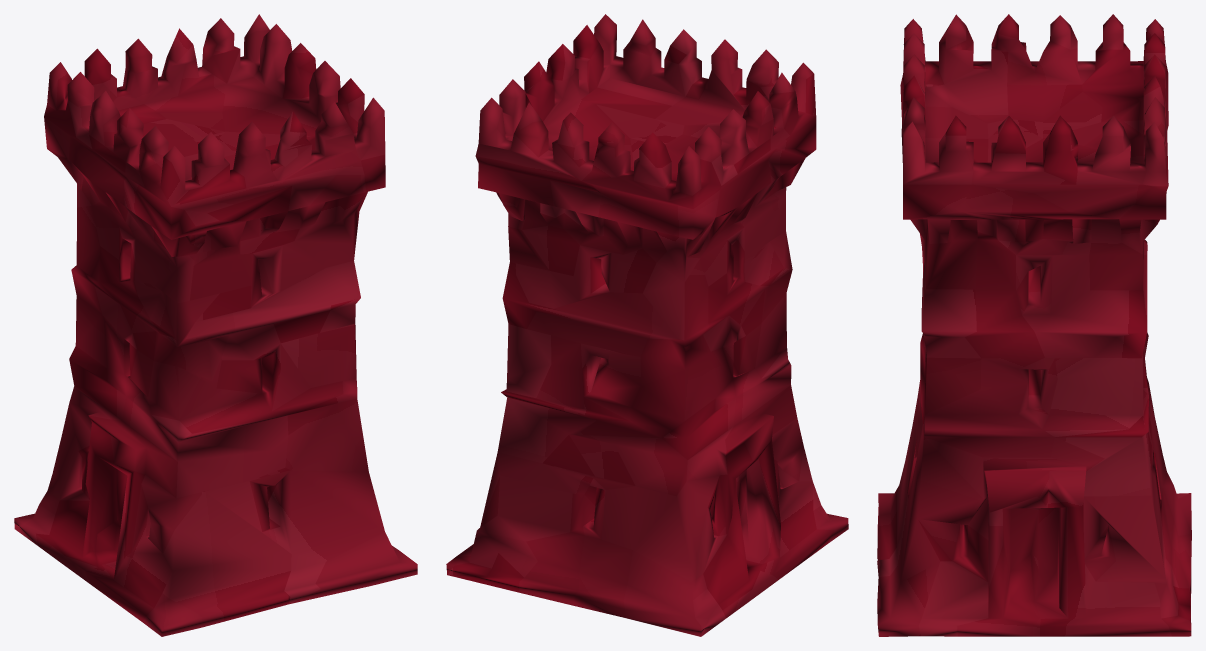
The model's file is castle_tower_medium_diamond_red_lo.glb.
3 views of the same model, side by side, from view 1: azimuth 30°, elevation 25°; view 2: azimuth 150°, elevation 25°; view 3: azimuth 270°, elevation 25° (orthographic). The views are drawn at different scales.
Parts seen in each view (by area): view 1: tripo_node_f74a6873-0aa4-44c0-b1a2-0f1e77261948; view 2: tripo_node_f74a6873-0aa4-44c0-b1a2-0f1e77261948; view 3: tripo_node_f74a6873-0aa4-44c0-b1a2-0f1e77261948.
Boxes of the visible parts, box(x1,y1,x2,y2) form: tripo_node_f74a6873-0aa4-44c0-b1a2-0f1e77261948: box(14, 14, 417, 636); tripo_node_f74a6873-0aa4-44c0-b1a2-0f1e77261948: box(446, 14, 848, 636); tripo_node_f74a6873-0aa4-44c0-b1a2-0f1e77261948: box(877, 14, 1191, 636).
Size of the model in its own units: 0.5521 by 0.9803 by 0.5525.
Materials: 1 (1 with a texture image).
